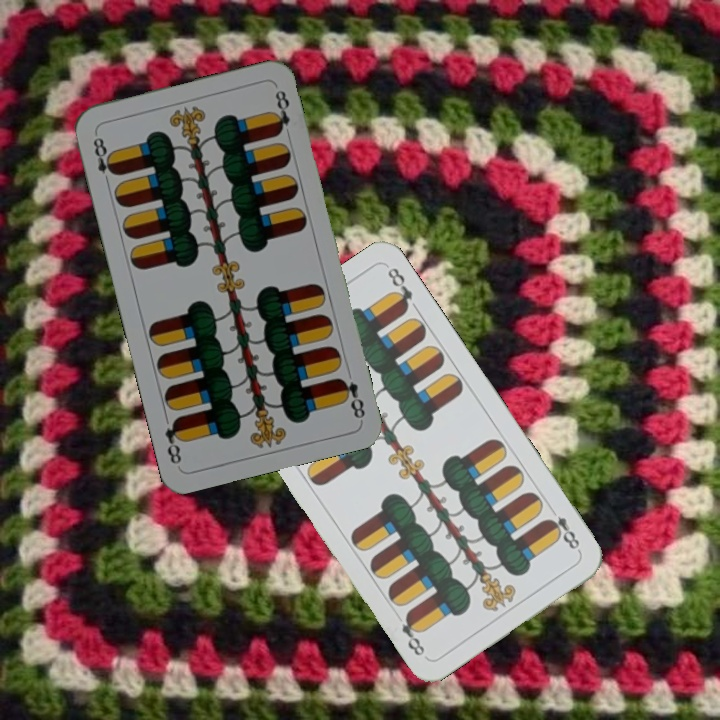E8: (542, 503, 583, 555), (89, 129, 119, 187), (335, 374, 368, 421)
